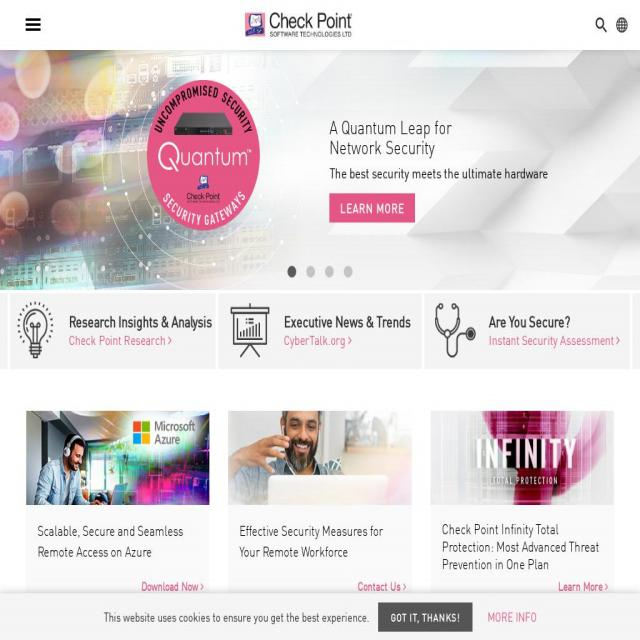language: (612, 12, 638, 43)
navigation-blocks: (25, 380, 633, 603)
options: (18, 10, 48, 42)
search: (590, 13, 609, 40)
